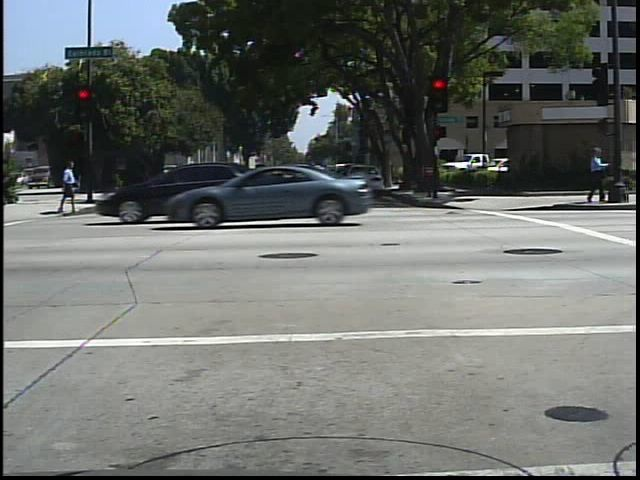person: (584, 144, 611, 208), (55, 157, 80, 216)
